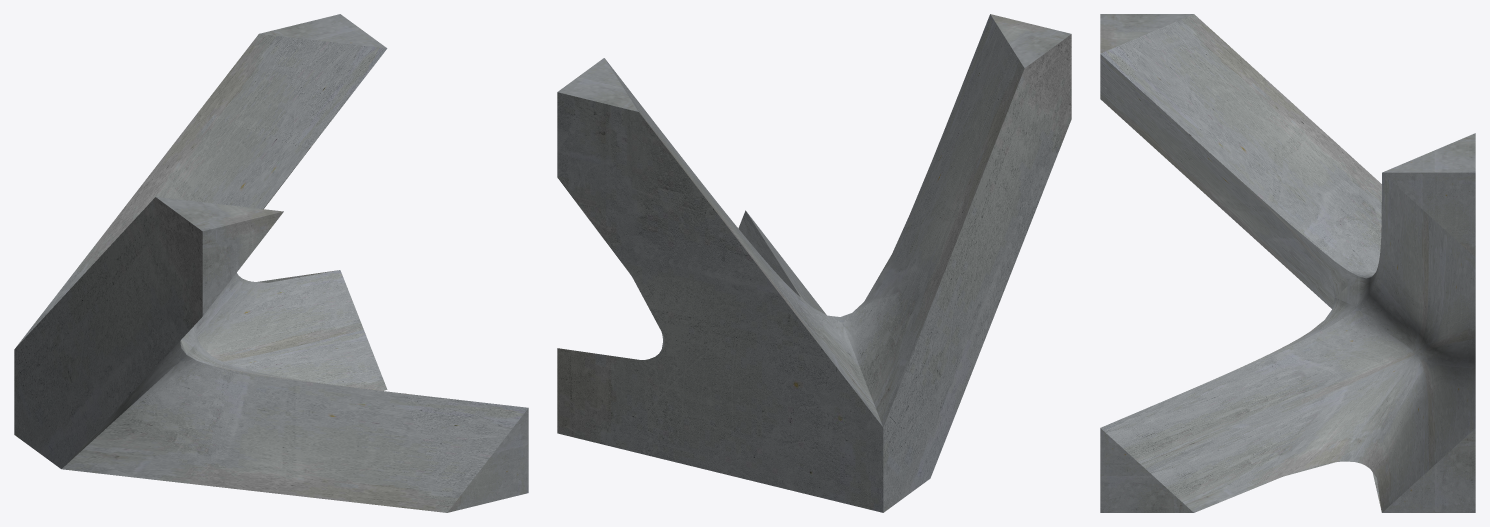
The model's file is module_R3.fbx.
3 views of the same model, side by side, from view 1: azimuth 30°, elevation 25°; view 2: azimuth 150°, elevation 25°; view 3: azimuth 270°, elevation 25° (orthographic).
Parts seen in each view (by area): view 1: modules; view 2: modules; view 3: modules.
Part boxes in pixels (x1,y1,x2,y2): modules: (14, 14, 528, 512); modules: (557, 14, 1071, 512); modules: (1100, 14, 1475, 512).
Size of the model in its own units: 1000 by 1000 by 1000.
1 material, 1 textured.
